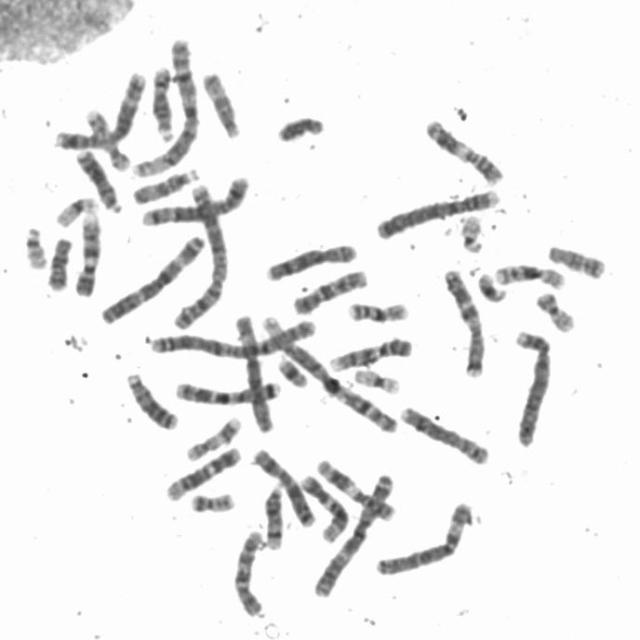A1: (257, 310, 402, 436), (130, 36, 204, 180)
A2: (168, 177, 232, 332), (145, 314, 319, 359)
A3: (309, 468, 397, 598), (97, 230, 208, 326)
B4: (372, 183, 503, 240), (508, 324, 555, 448)
B5: (51, 66, 151, 153), (137, 170, 253, 228)
C10: (288, 264, 370, 316), (228, 525, 268, 619)
C11: (420, 114, 507, 188), (313, 454, 399, 523)
C12: (163, 442, 244, 502), (296, 469, 352, 544)
C6: (371, 496, 476, 578), (229, 311, 275, 434)
C7: (438, 263, 488, 379), (169, 374, 284, 407)
C8: (395, 400, 493, 467), (261, 238, 360, 282)
C9: (324, 331, 416, 374), (71, 206, 104, 298)
D13: (121, 368, 180, 432), (72, 144, 125, 214)
D14: (147, 61, 178, 142), (260, 478, 286, 552)
D15: (199, 66, 245, 140), (128, 163, 201, 206)
E16: (491, 258, 568, 292), (343, 295, 412, 325)
E17: (82, 104, 132, 172), (181, 410, 244, 463)
E18: (544, 239, 608, 280), (43, 232, 74, 292)
F19: (51, 191, 101, 229), (350, 362, 403, 396)
F20: (531, 286, 579, 334), (186, 487, 237, 514)
G21: (472, 268, 509, 304), (274, 352, 310, 389)
G22: (20, 221, 50, 271), (455, 210, 487, 254)
X: (248, 442, 318, 528)
Y: (272, 110, 328, 144)
